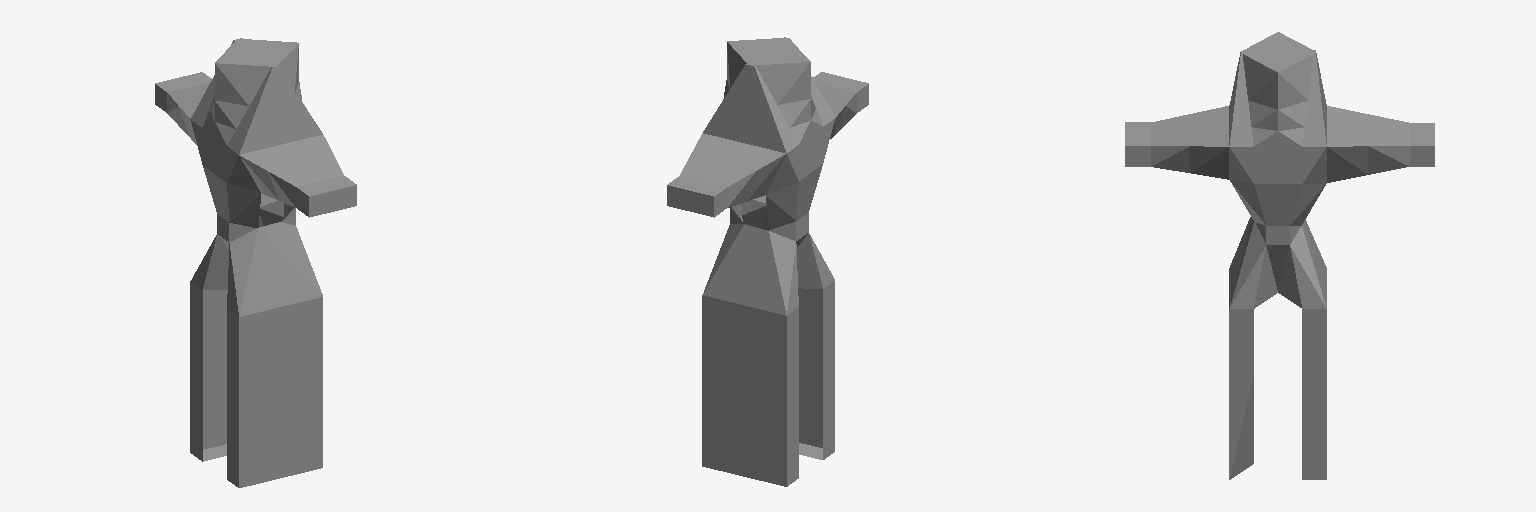
Rendered from man3.obj.
The picture shows the model from 3 angles: view 1: azimuth 30°, elevation 25°; view 2: azimuth 150°, elevation 25°; view 3: azimuth 270°, elevation 25°; orthographic projection.
Bounding box in the file's own units: 2 × 9.24 × 6.36.